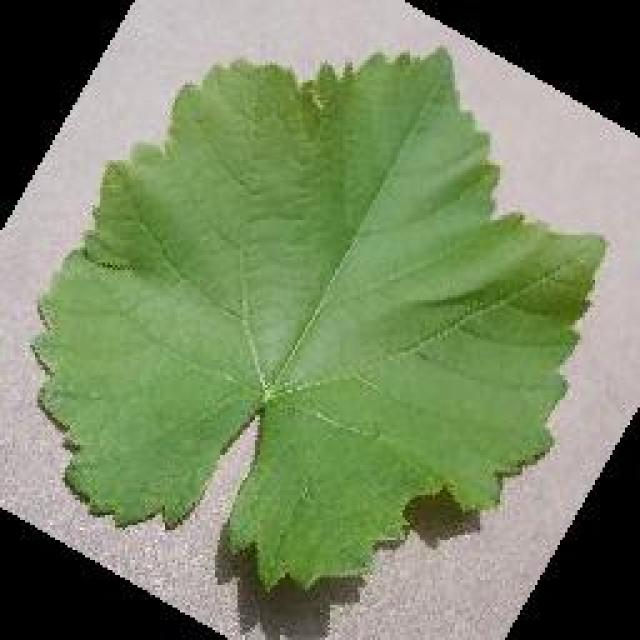Grape___healthy: (22, 41, 609, 596)
